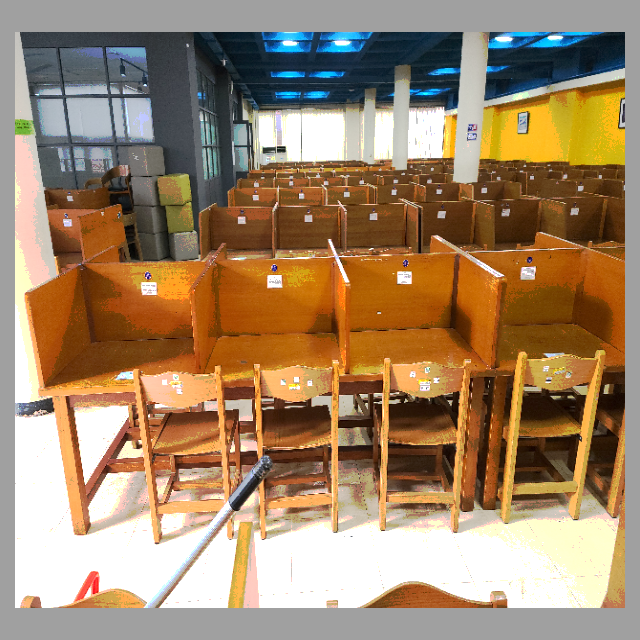empty: (27, 250, 192, 458), (199, 255, 346, 446), (353, 252, 497, 436)
